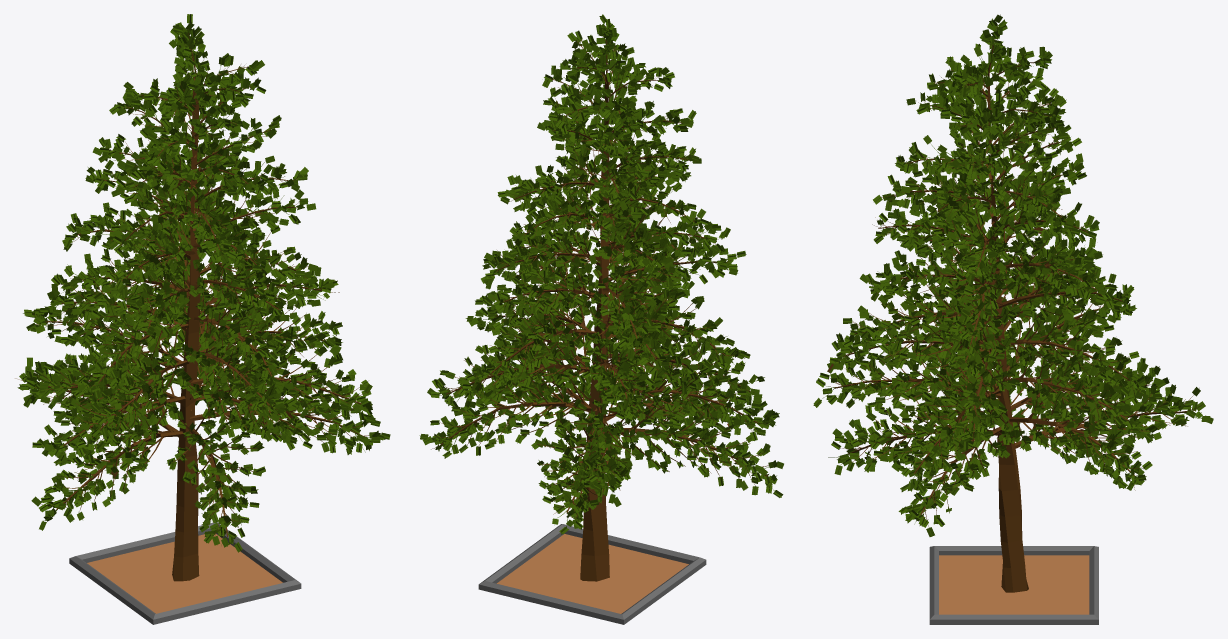
File: Tree.fbx
3 renders of one model, left to right at view 1: azimuth 30°, elevation 25°; view 2: azimuth 150°, elevation 25°; view 3: azimuth 270°, elevation 25°, orthographic. The views are drawn at different scales.
Parts seen in each view (by area): view 1: Foliage001; view 2: Foliage001; view 3: Foliage001.
Part boxes in pixels (x1=…): Foliage001: x1=15, y1=14, x2=390, y2=624; Foliage001: x1=419, y1=14, x2=783, y2=624; Foliage001: x1=813, y1=14, x2=1213, y2=624.
Bounding box in the file's own units: 582 × 975 × 618.
